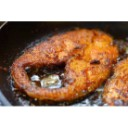seerfish: (11, 27, 118, 103)
